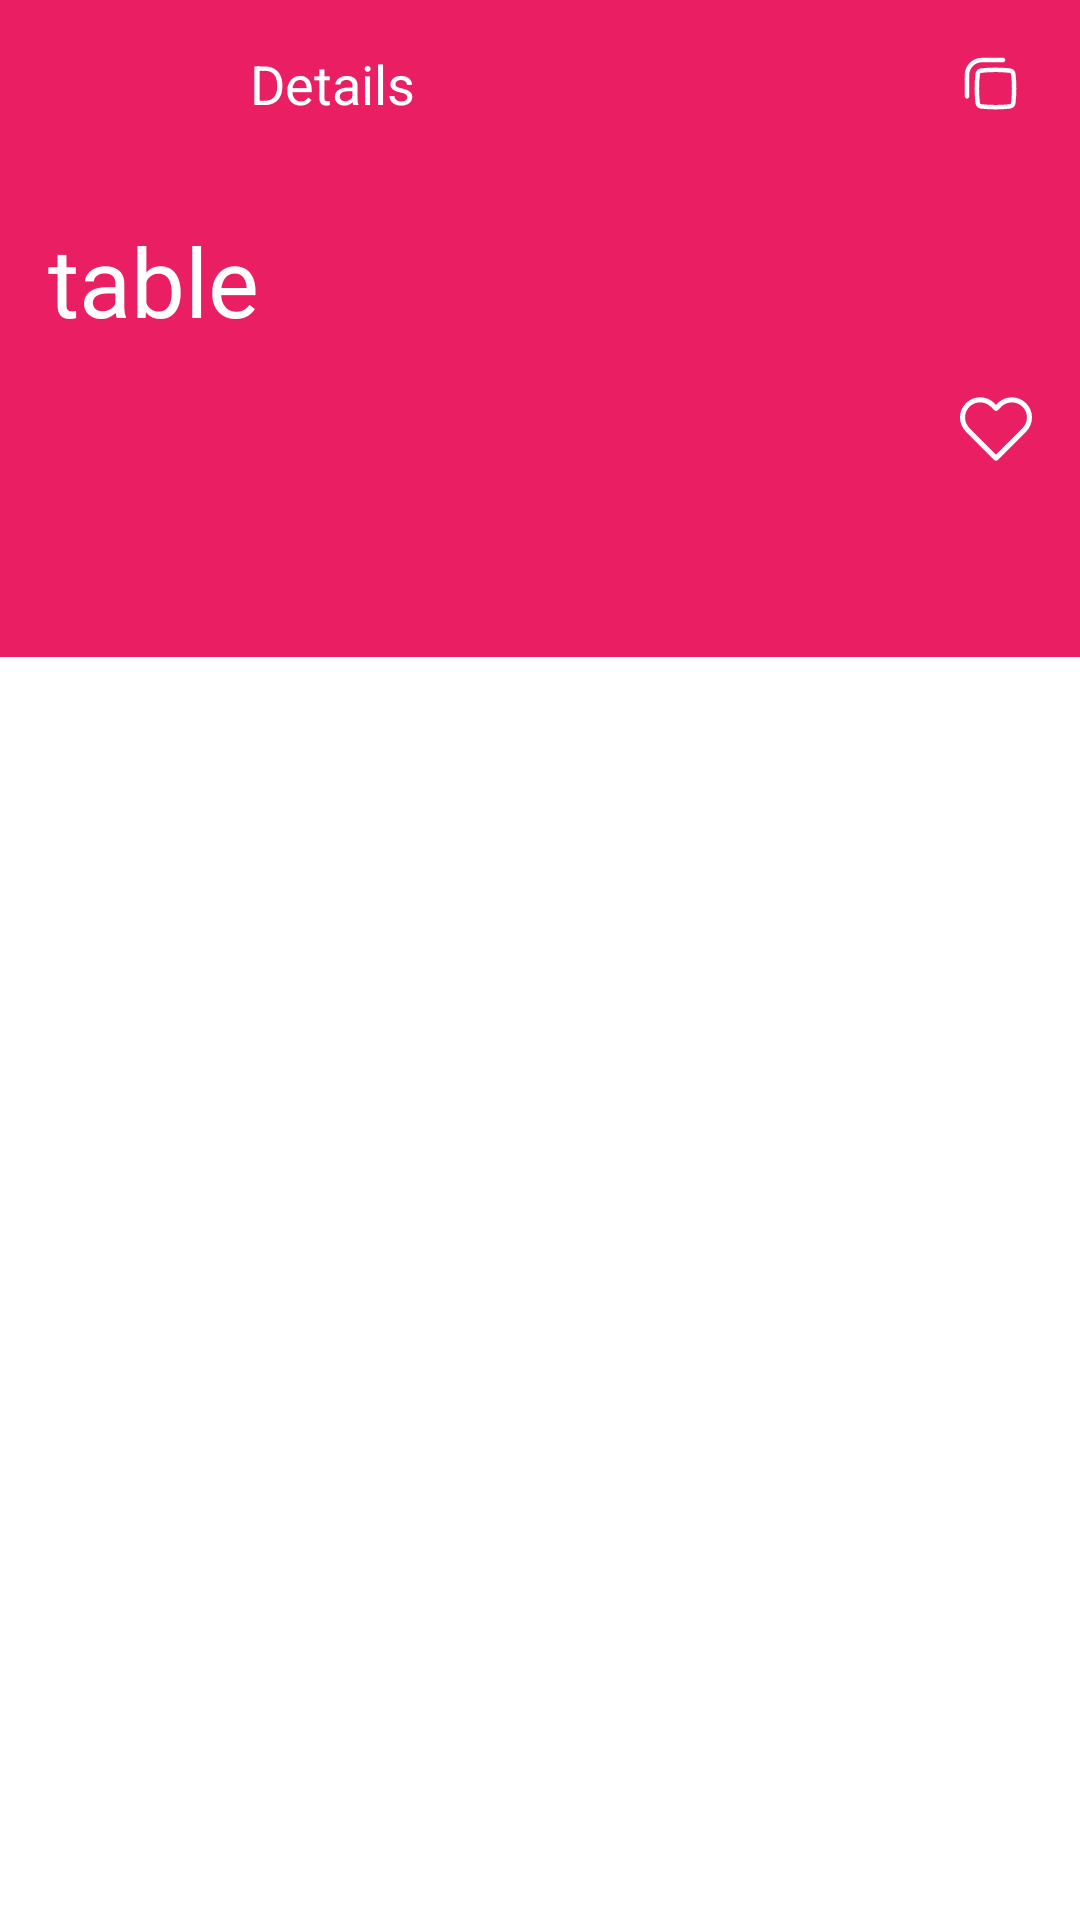

Screen size 1080 x 1920. Icon name, then its center in pixels as (x,y):
heart: (996,429)
